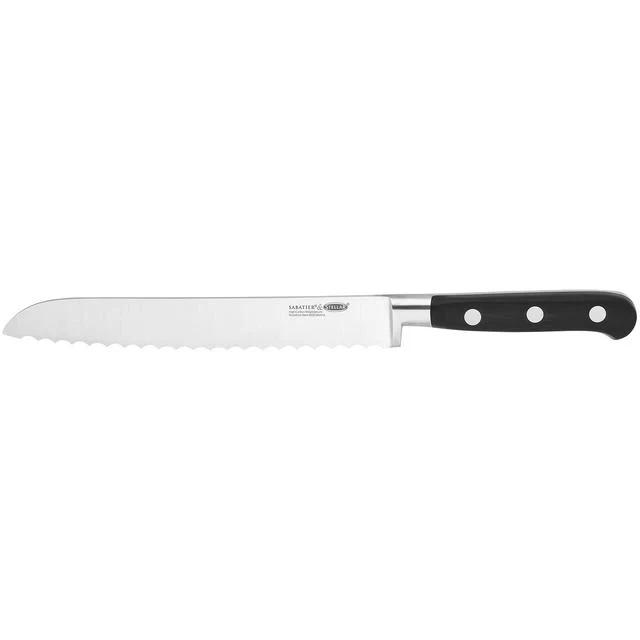Knife: (4, 290, 637, 349)
